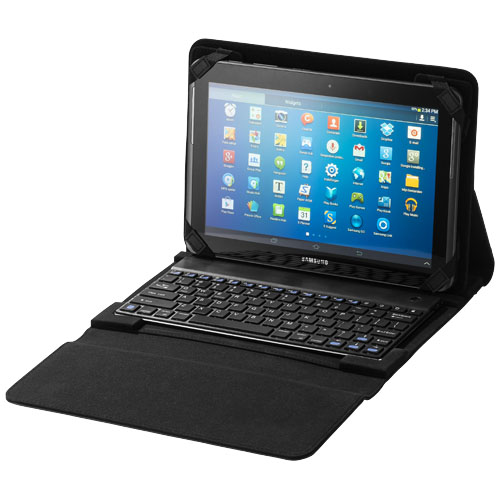Teclado: (93, 248, 446, 365)
